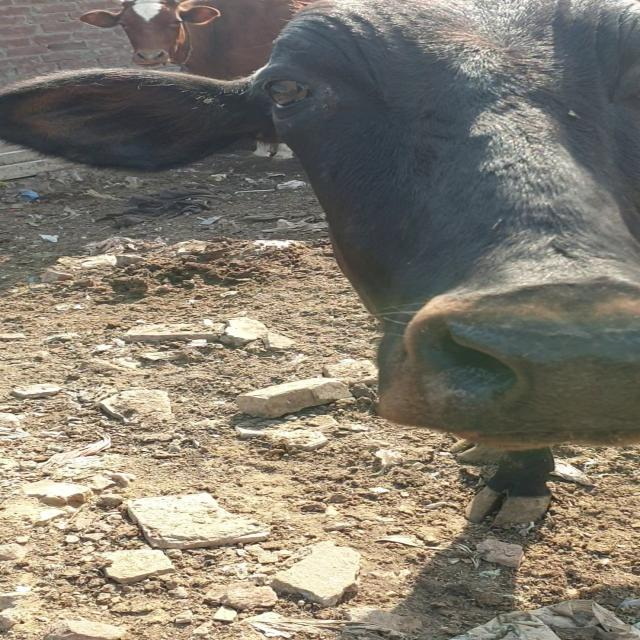cowFace: (253, 0, 639, 458), (114, 0, 206, 78)
